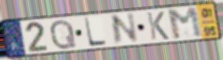2: (25, 20, 51, 54)
K: (146, 10, 171, 41)
L: (83, 16, 109, 48)
M: (166, 6, 206, 41)
N: (110, 11, 140, 47)
Q: (49, 19, 78, 51)
